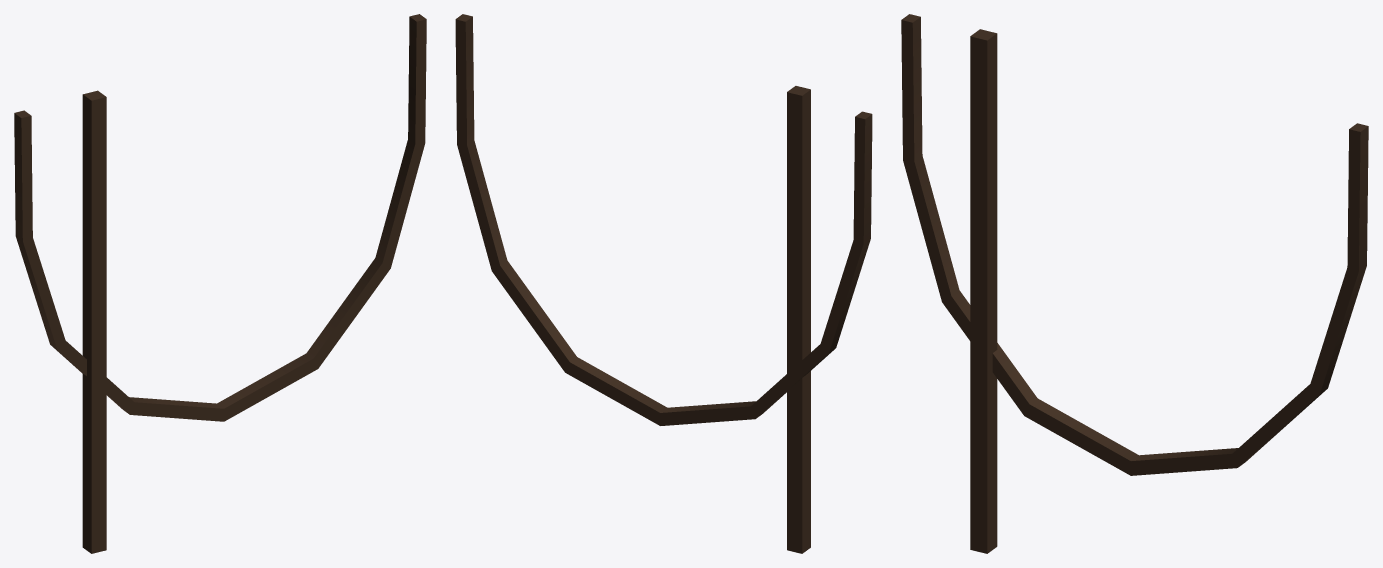
Rendered from SM_Prop_Rope_Hanging_01.glb.
The picture shows the model from 3 angles, left to right: view 1: azimuth 30°, elevation 25°; view 2: azimuth 150°, elevation 25°; view 3: azimuth 330°, elevation 25°; orthographic projection. The views are drawn at different scales.
Visible parts, largest first — view 1: SM_Prop_Rope_Hanging_01; view 2: SM_Prop_Rope_Hanging_01; view 3: SM_Prop_Rope_Hanging_01.
Part boxes in pixels (left/top/right/bottom): SM_Prop_Rope_Hanging_01: left=14, top=14, right=426, bottom=553; SM_Prop_Rope_Hanging_01: left=455, top=14, right=872, bottom=553; SM_Prop_Rope_Hanging_01: left=901, top=14, right=1368, bottom=553.
Size of the model in its own units: 0.0129 by 0.0138 by 0.000655.
